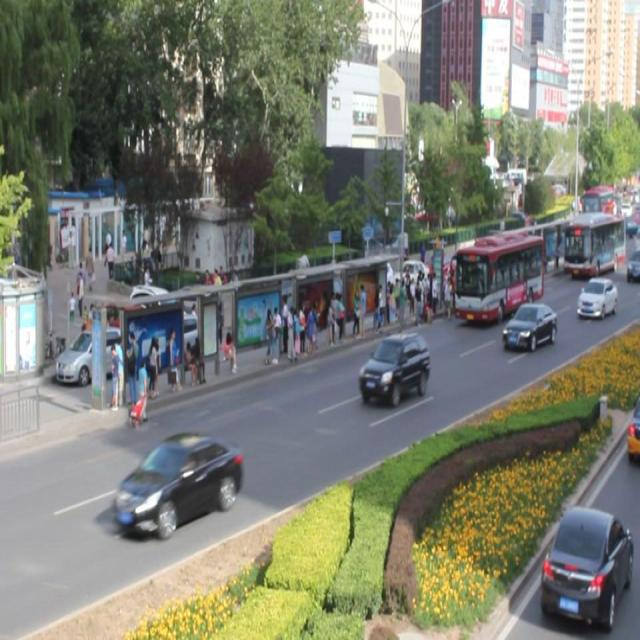car: (116, 432, 242, 539), (358, 329, 431, 405), (500, 299, 557, 350), (575, 276, 616, 318)
van: (447, 232, 538, 326)
